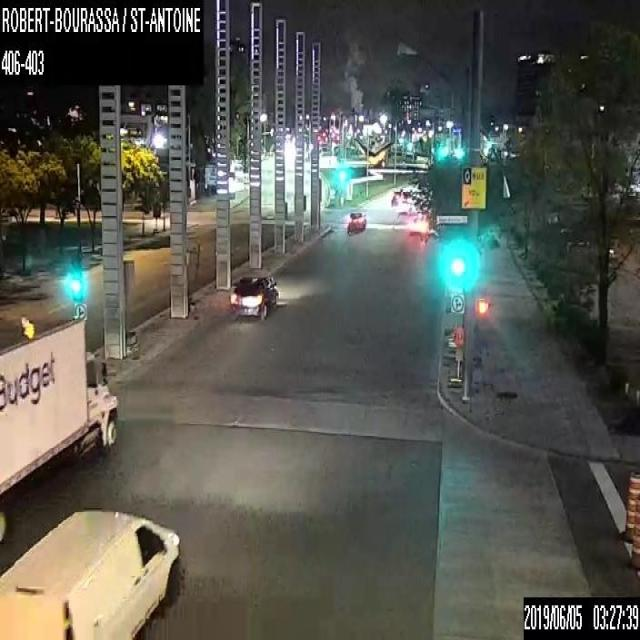construction: (619, 466, 639, 542), (450, 324, 463, 388), (630, 496, 639, 569)
vehicle: (0, 315, 118, 544), (0, 506, 183, 638), (229, 273, 278, 319), (348, 211, 366, 232), (411, 216, 426, 235), (391, 191, 406, 209)
